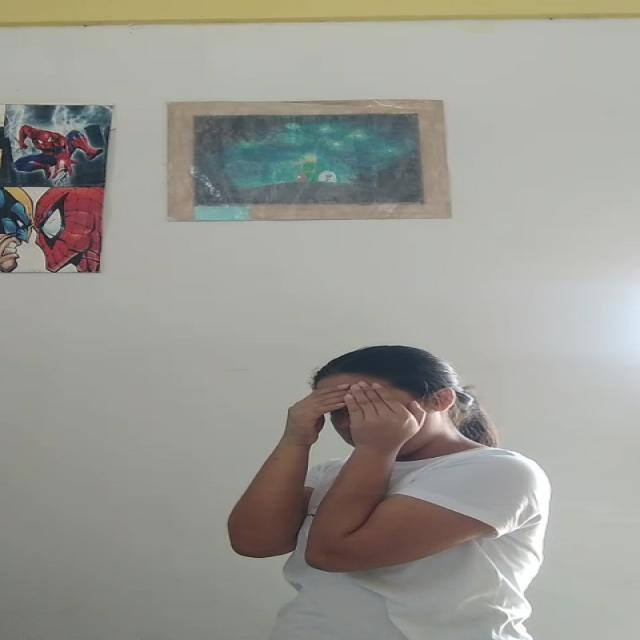7_mano_rostro: (275, 382, 411, 500)
